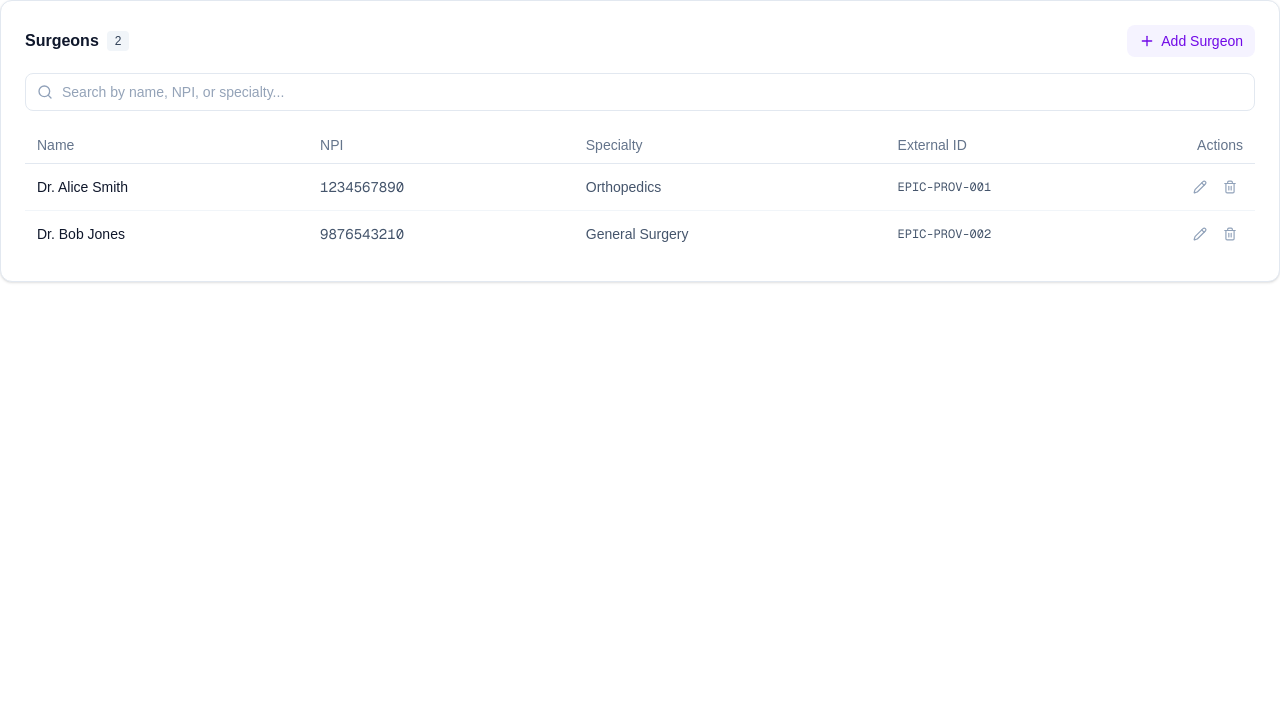
Test: SurgeonPool - Unit Tests › shows delete confirmation with cascade count
Expected: the text "Dr. Alice Smith" is shown, [25,164,308,210]
What coordinates should you click on to do the following:
click the button titled "Delete" in the row of "Dr. Alice Smith"
I would click on:
 (1230, 187)
Its box is [1217,174,1243,200].
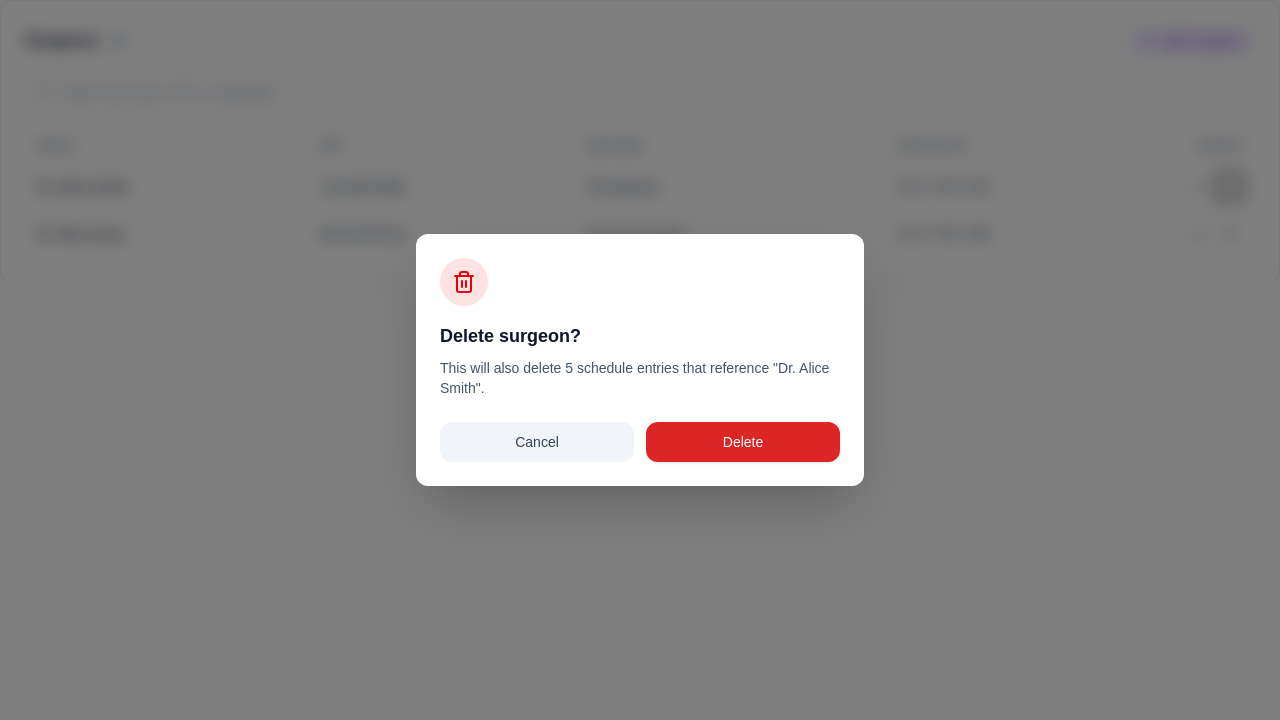
Expected: the text "This will also delete 5 schedule entries" is shown, [440,360,829,396]
